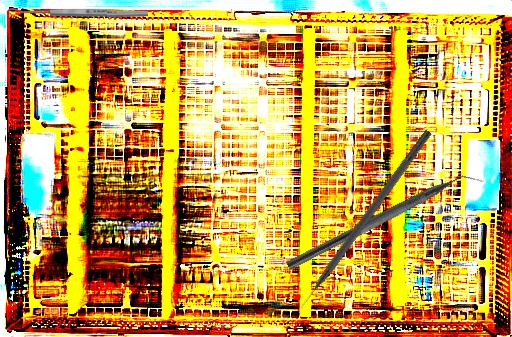Chopper: (285, 161, 486, 284)
Hook Surgical: (288, 128, 434, 321)
Surgical Spoon: (8, 6, 149, 19)
